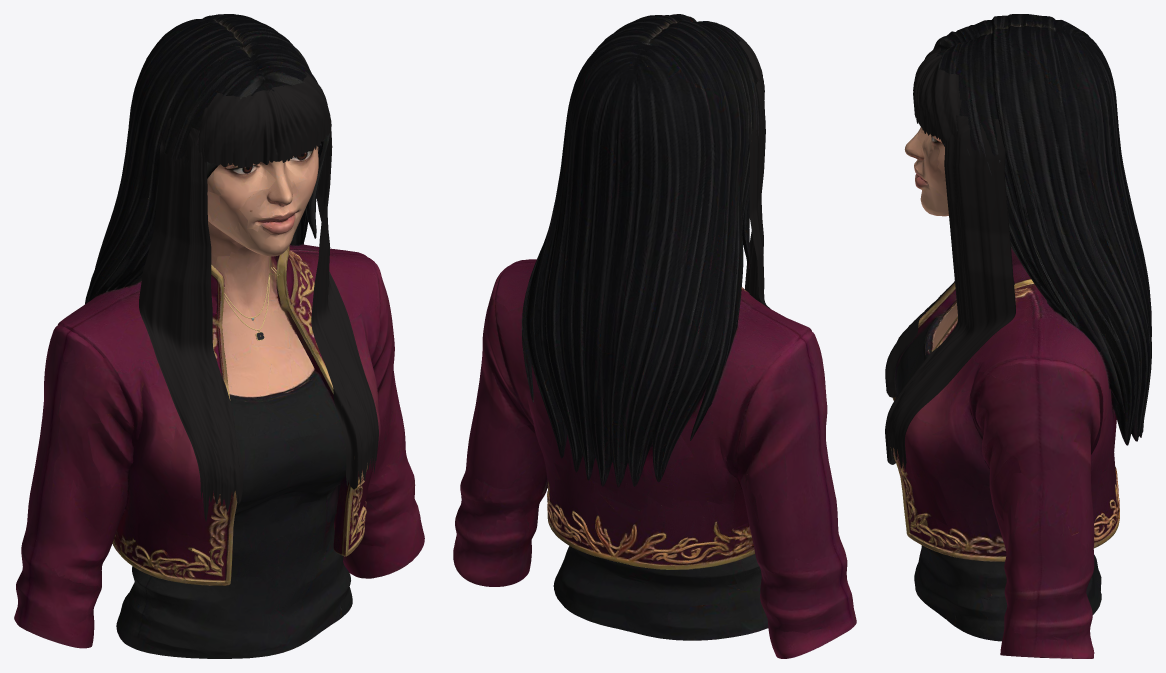
The model's file is fatima-buste.glb.
3 renders of one model, left to right at view 1: azimuth 30°, elevation 25°; view 2: azimuth 150°, elevation 25°; view 3: azimuth 270°, elevation 25°, orthographic. The views are drawn at different scales.
Parts seen in each view (by area): view 1: Mesh_0, Meches_avant_g, Frange, Meches_avant_d; view 2: Mesh_0, Meches_avant_g; view 3: Mesh_0, Meches_avant_d, Frange, Meches_avant_g.
Boxes of the visible parts, bbox=[...] form: Mesh_0: bbox=[14, 14, 424, 658]; Meches_avant_g: bbox=[139, 118, 243, 521]; Frange: bbox=[198, 71, 331, 167]; Meches_avant_d: bbox=[311, 108, 378, 489]; Mesh_0: bbox=[453, 14, 856, 658]; Meches_avant_g: bbox=[744, 80, 770, 308]; Mesh_0: bbox=[890, 14, 1151, 658]; Meches_avant_d: bbox=[885, 115, 1015, 472]; Frange: bbox=[913, 40, 961, 143]; Meches_avant_g: bbox=[885, 281, 954, 397].
Bounding box in the file's own units: 1.35 × 1.9 × 0.8078.
Materials: 5 (1 with a texture image).
